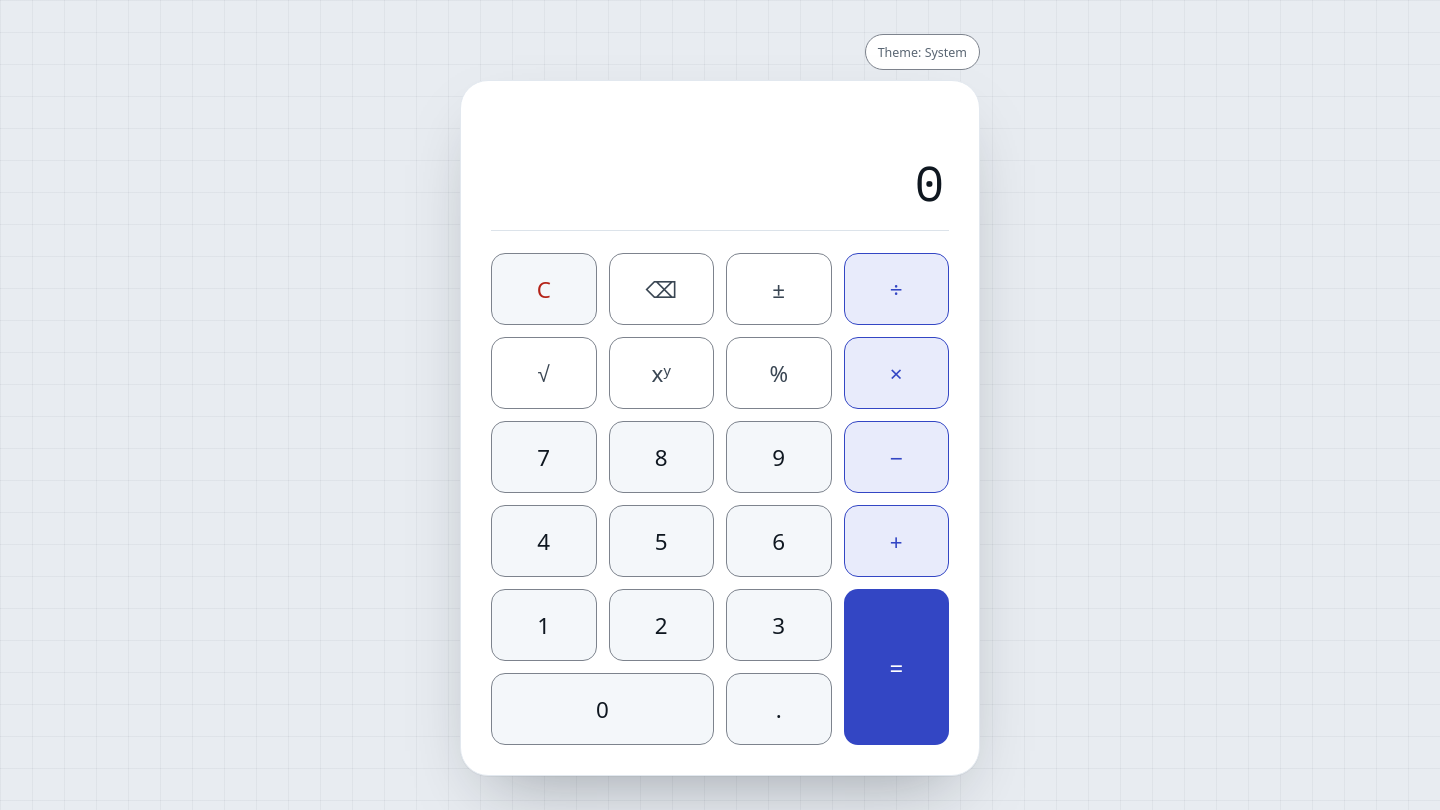
Test: app › evaluates left to right across requests
Click the button "2": [661, 625] box [608,589,714,661]
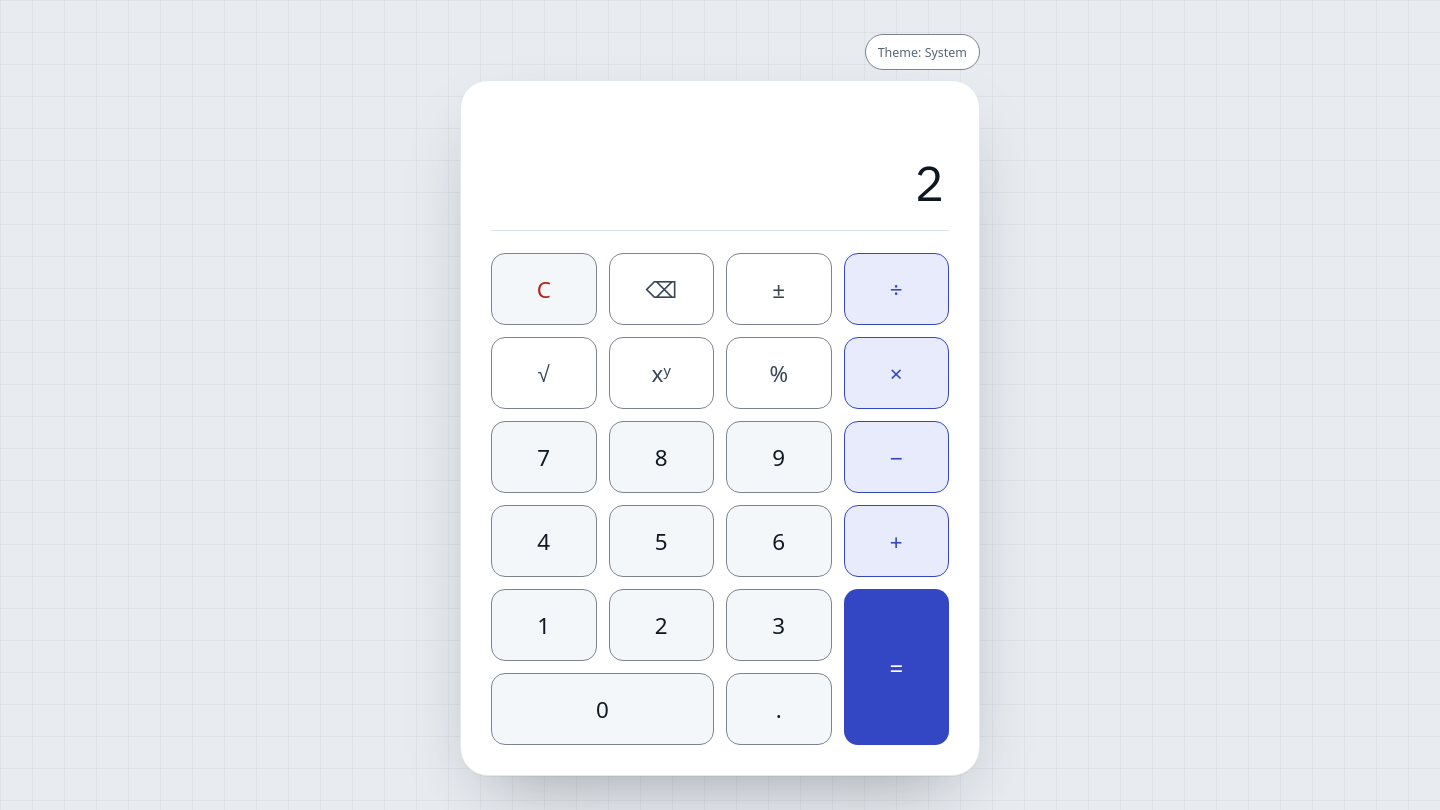
Click the button named "add": [896, 541] box [844,505,949,577]
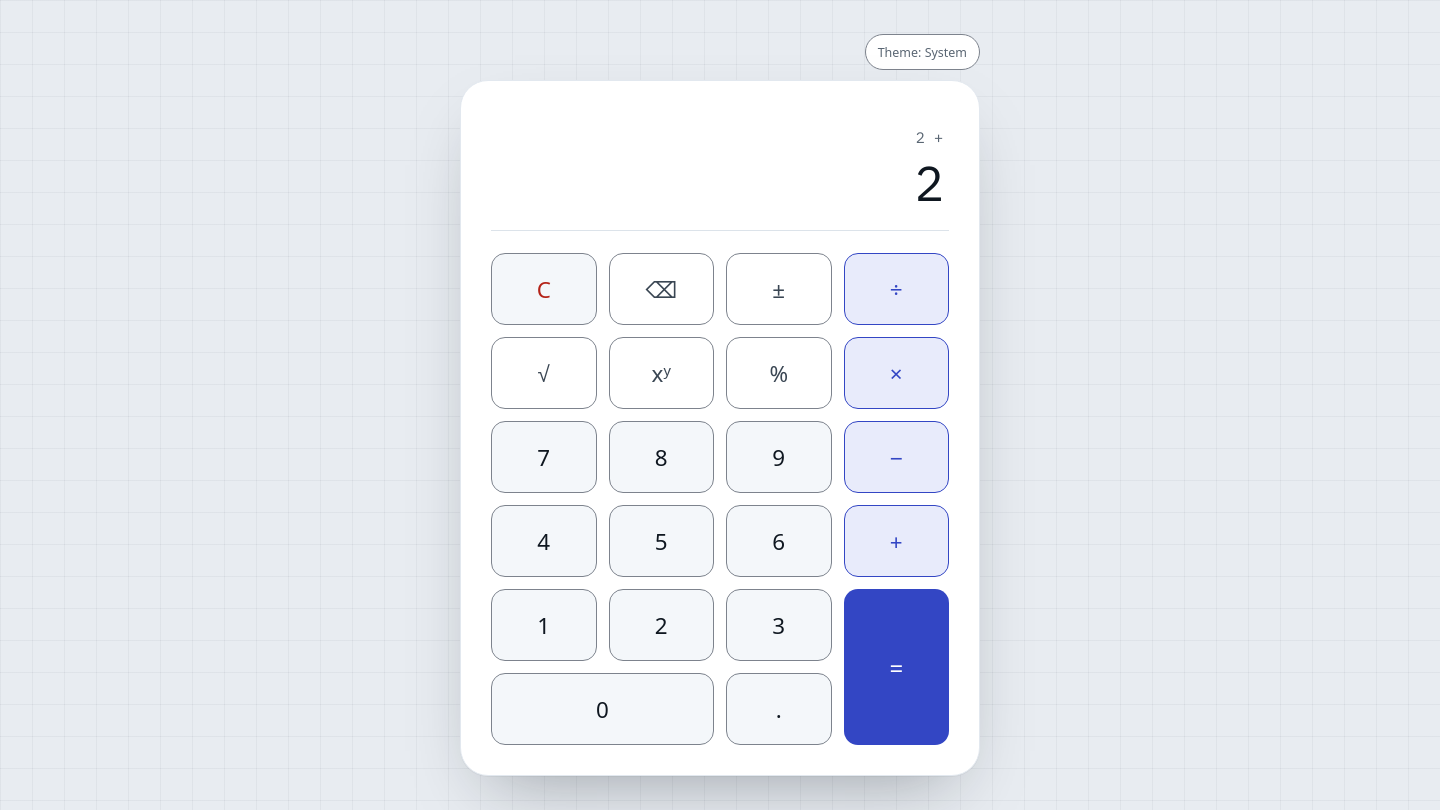
Click the button "3": [779, 625] box [726,589,832,661]
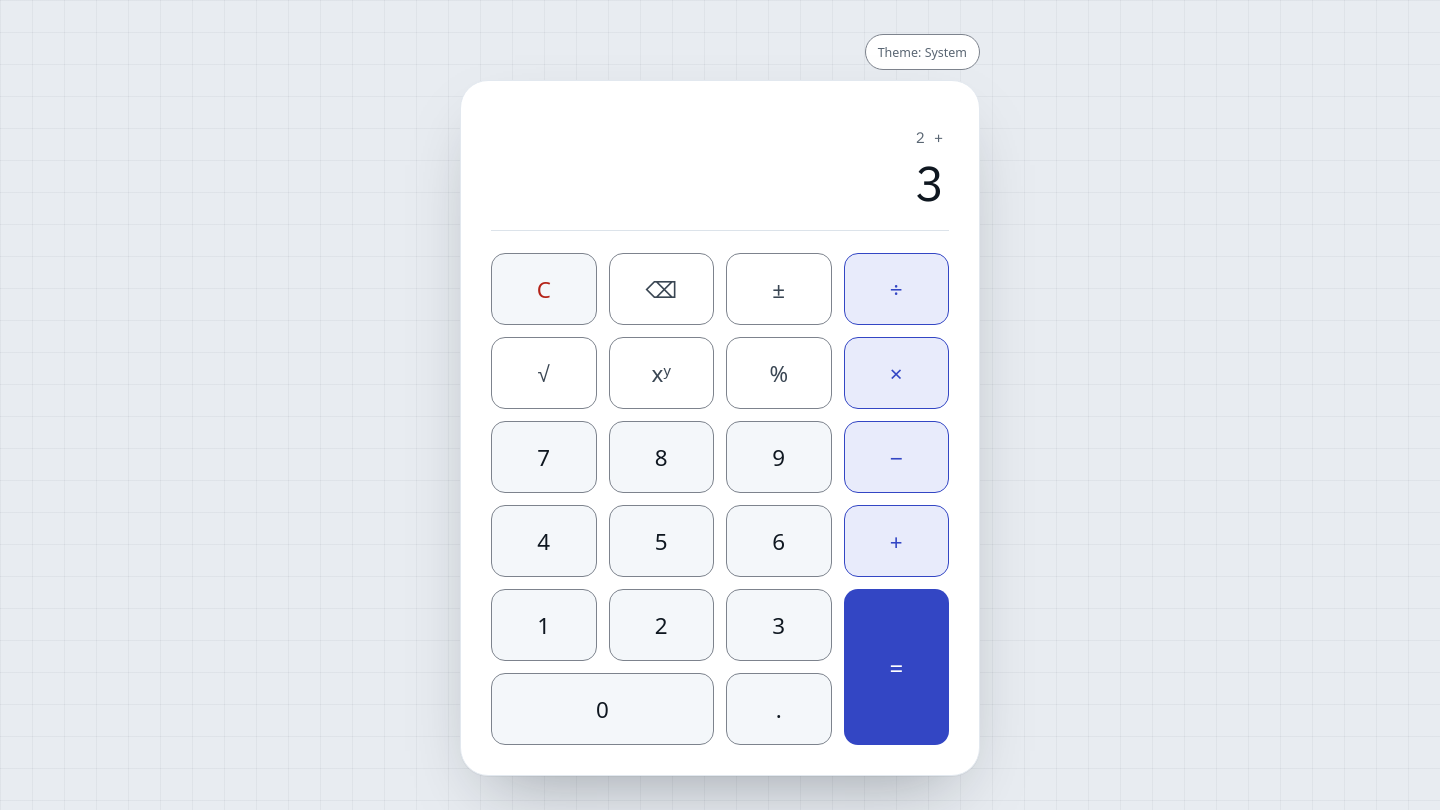
Click the button named "multiply": [896, 373] box [844,337,949,409]
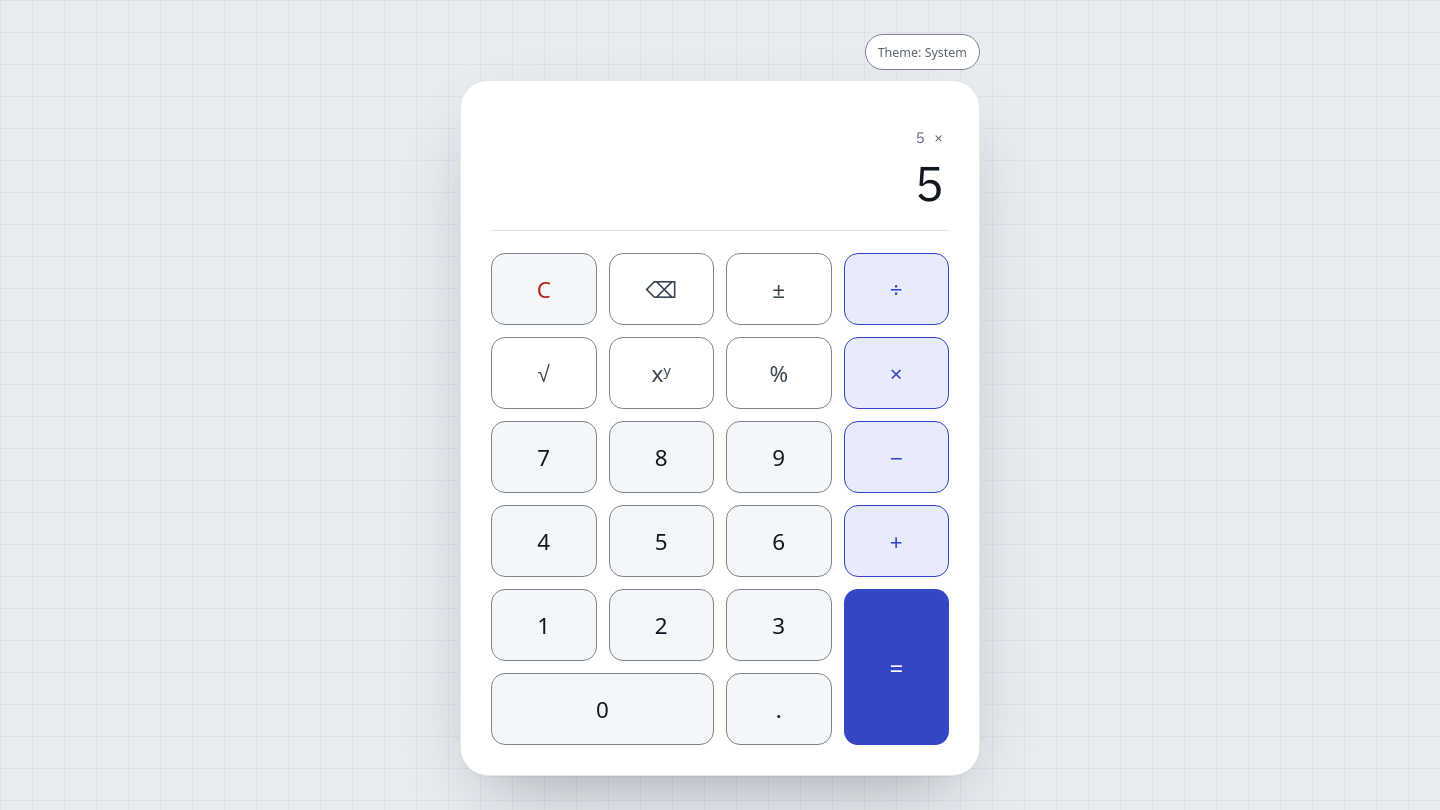
Click the button "4": [544, 541] box [491,505,596,577]
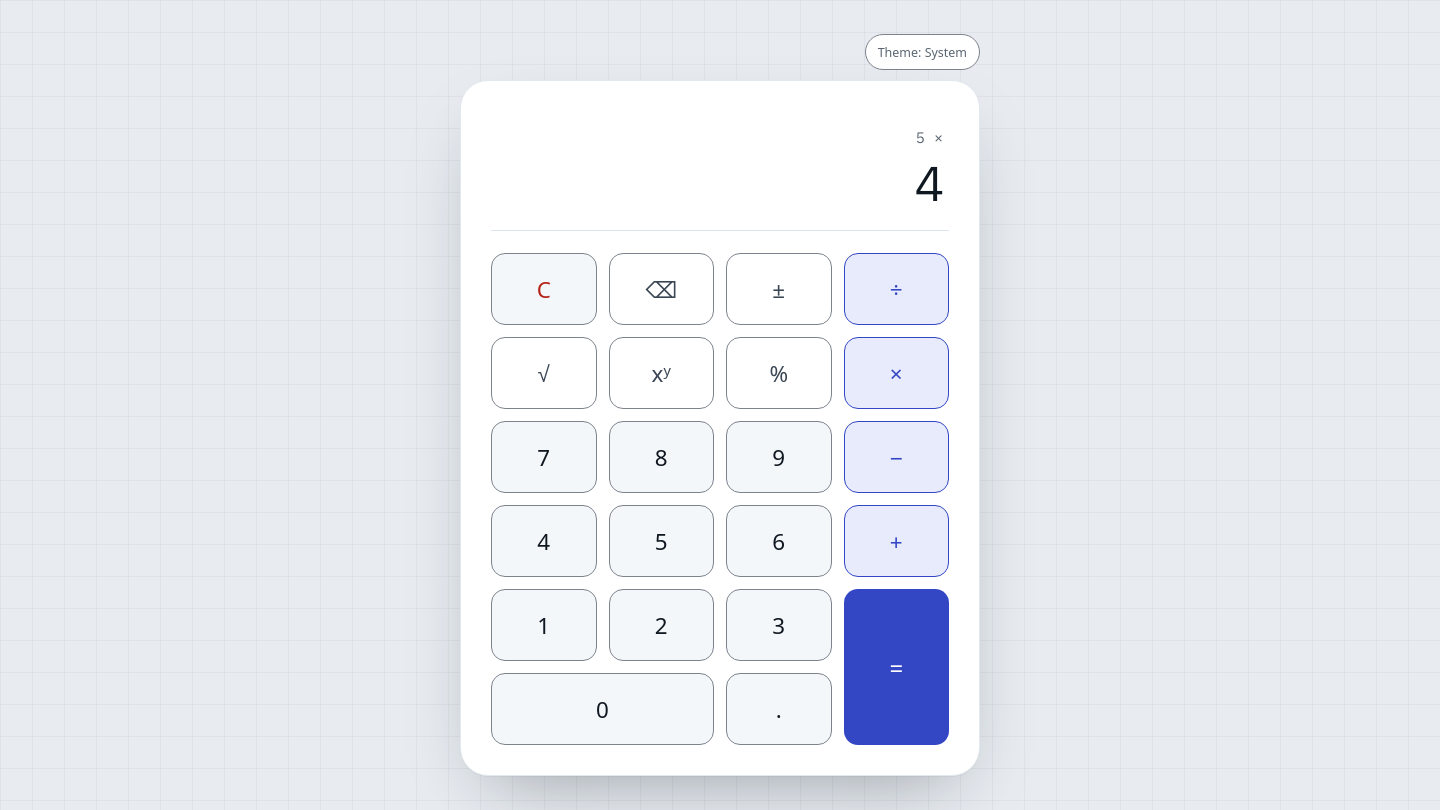
Click the button named "equals": [896, 667] box [844,589,949,745]
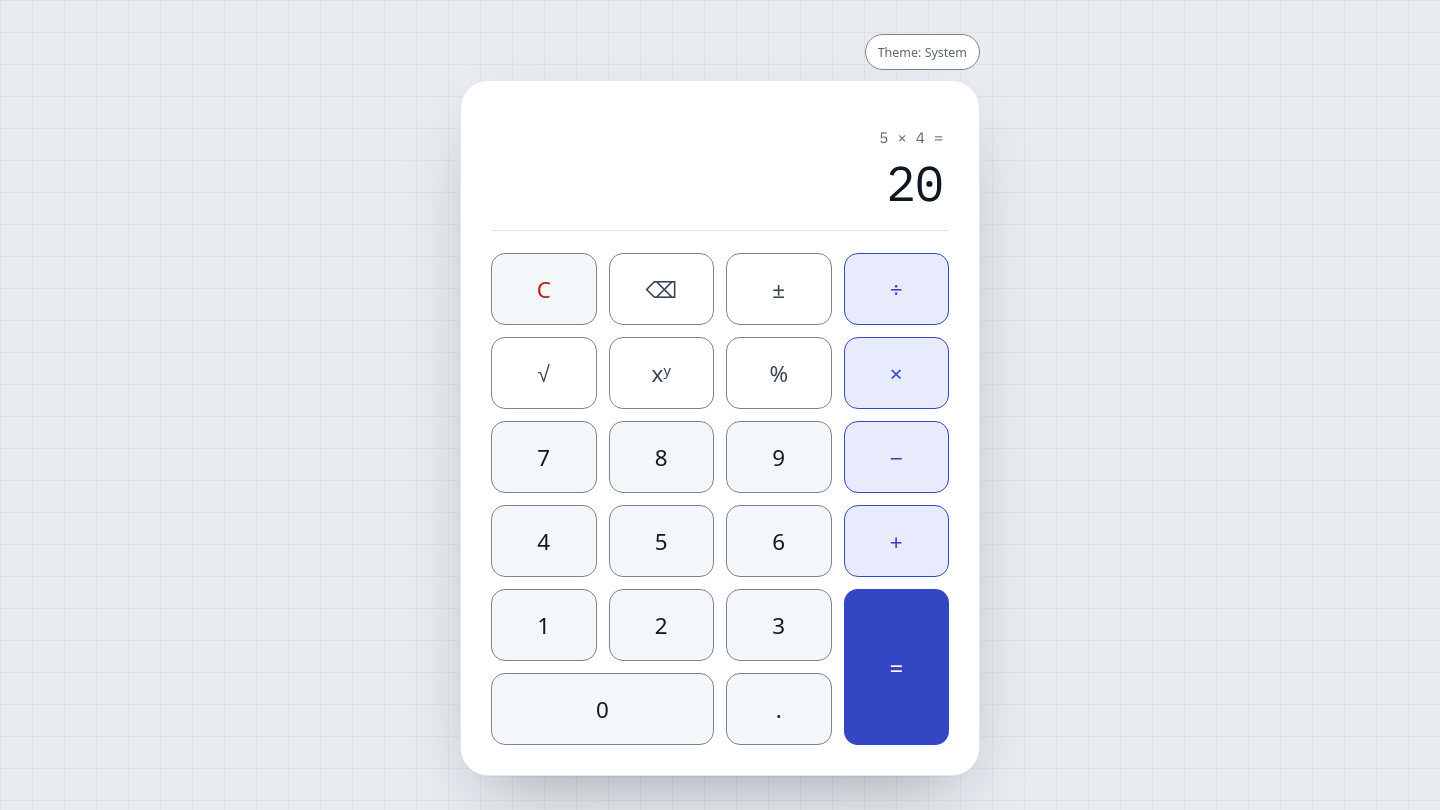
Expected: the text with test id "value" reads "20", [886,151,943,214]
